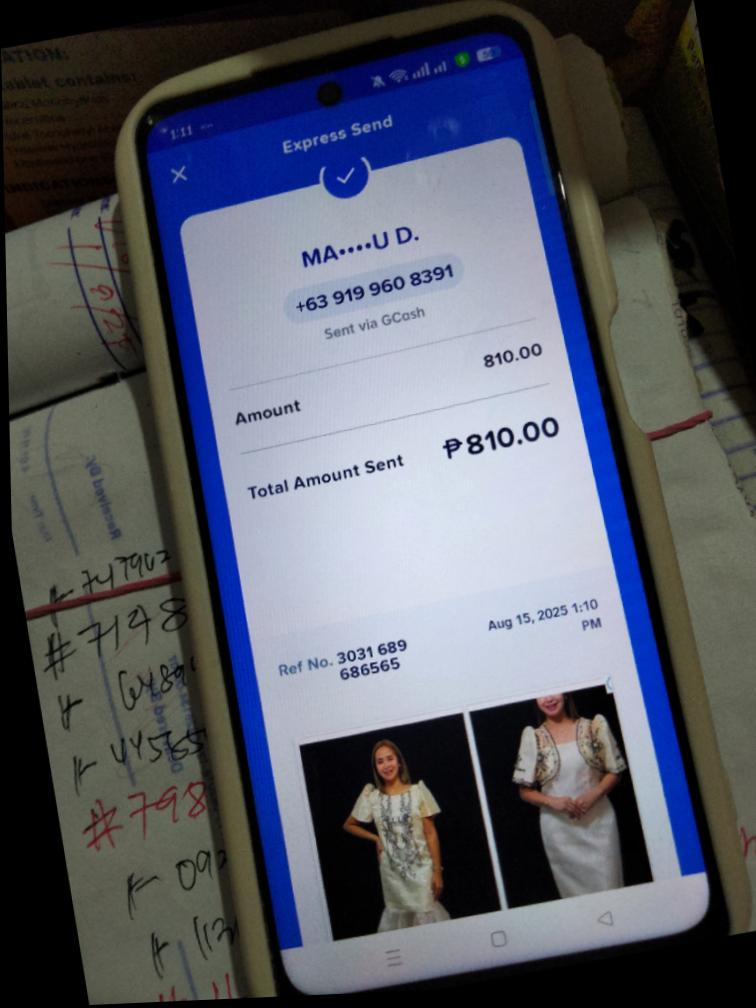Receipt: (147, 57, 708, 951)
